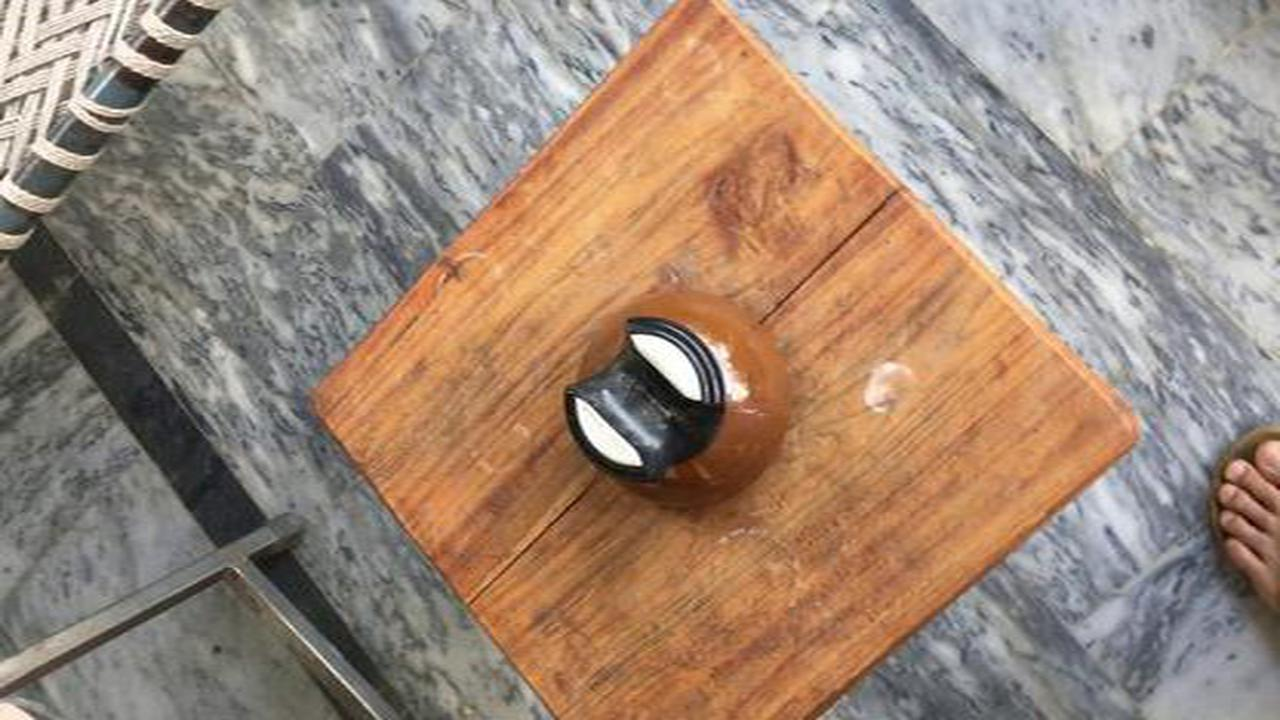insulator_pin: (536, 281, 828, 525)
